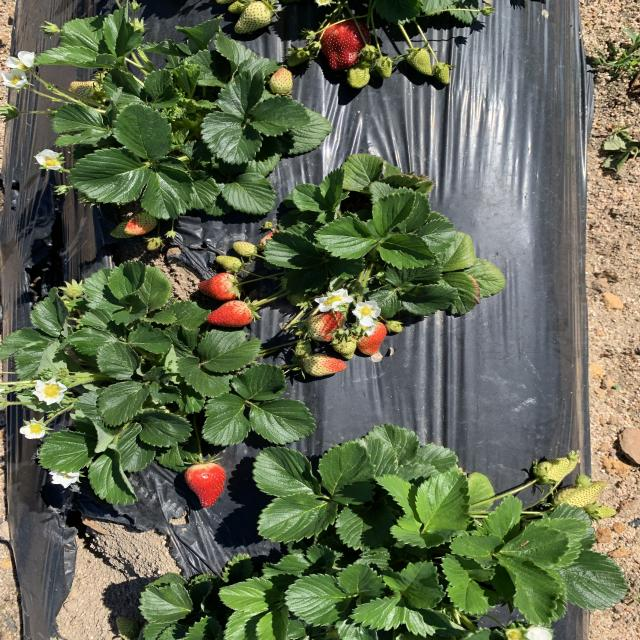unripe: (317, 19, 374, 68), (182, 462, 227, 510), (200, 300, 260, 329), (349, 318, 390, 357), (194, 271, 243, 303)
